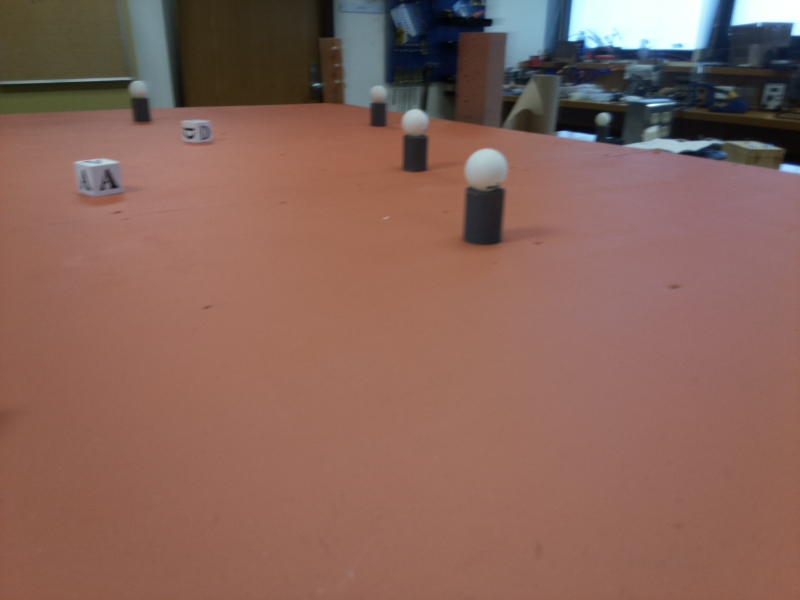blockA: (75, 155, 124, 203)
blockD: (179, 117, 219, 147)
corner: (319, 38, 348, 109)
obstacle: (457, 145, 509, 243), (395, 109, 433, 173), (365, 84, 393, 134), (127, 81, 150, 133)
